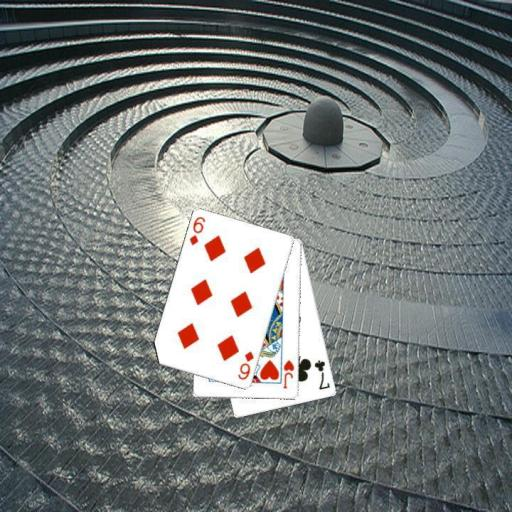card-corner: (186, 213, 207, 247), (312, 357, 332, 391), (235, 348, 255, 382), (280, 357, 296, 390)
